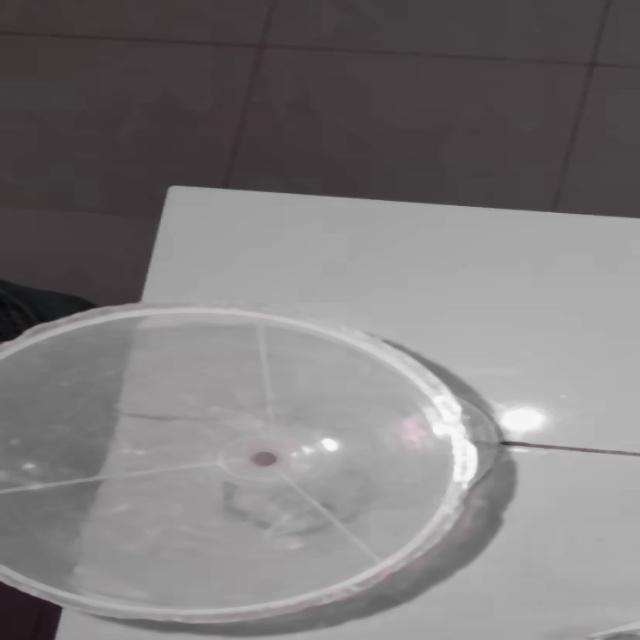Funnel: (5, 299, 482, 636)
